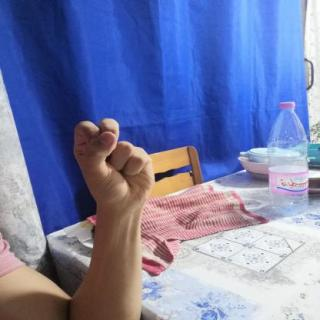QAAF: (59, 111, 168, 218)
